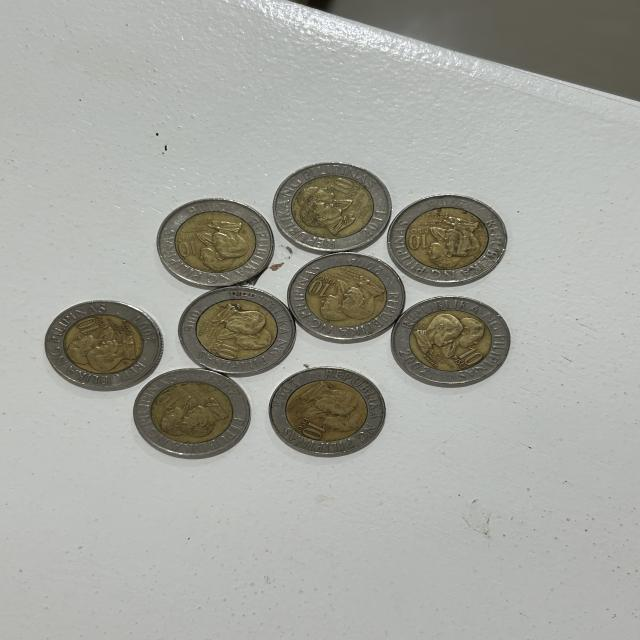10_Old_Front: (291, 411, 326, 443), (454, 346, 494, 371), (309, 268, 338, 302), (210, 337, 243, 364), (320, 176, 359, 198), (69, 316, 108, 338), (153, 388, 189, 409), (174, 232, 203, 258), (402, 228, 432, 253)
